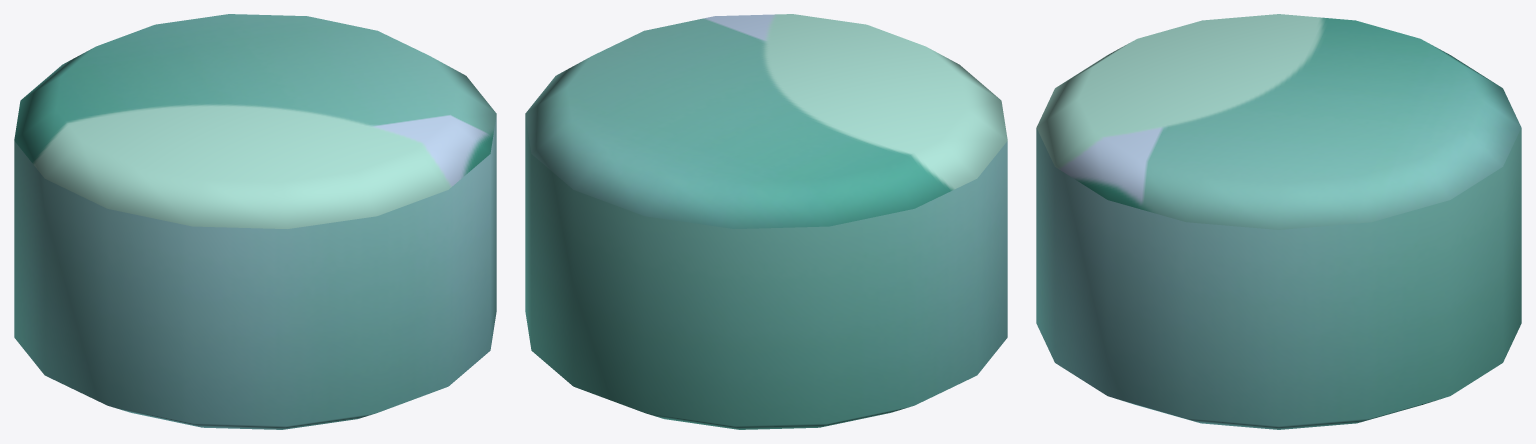
The model's file is Water_Bottle_Cap_02.fbx.
The picture shows the model from 3 angles, left to right: view 1: azimuth 30°, elevation 25°; view 2: azimuth 150°, elevation 25°; view 3: azimuth 270°, elevation 25°; orthographic projection.
Parts seen in each view (by area): view 1: Water_Bottle_Cap_02; view 2: Water_Bottle_Cap_02; view 3: Water_Bottle_Cap_02.
Part boxes in pixels (x1,y1,x2,y2): Water_Bottle_Cap_02: (14,14,496,429); Water_Bottle_Cap_02: (525,14,1007,429); Water_Bottle_Cap_02: (1036,14,1521,429).
Bounding box in the file's own units: 19.83 × 11.06 × 19.83.
